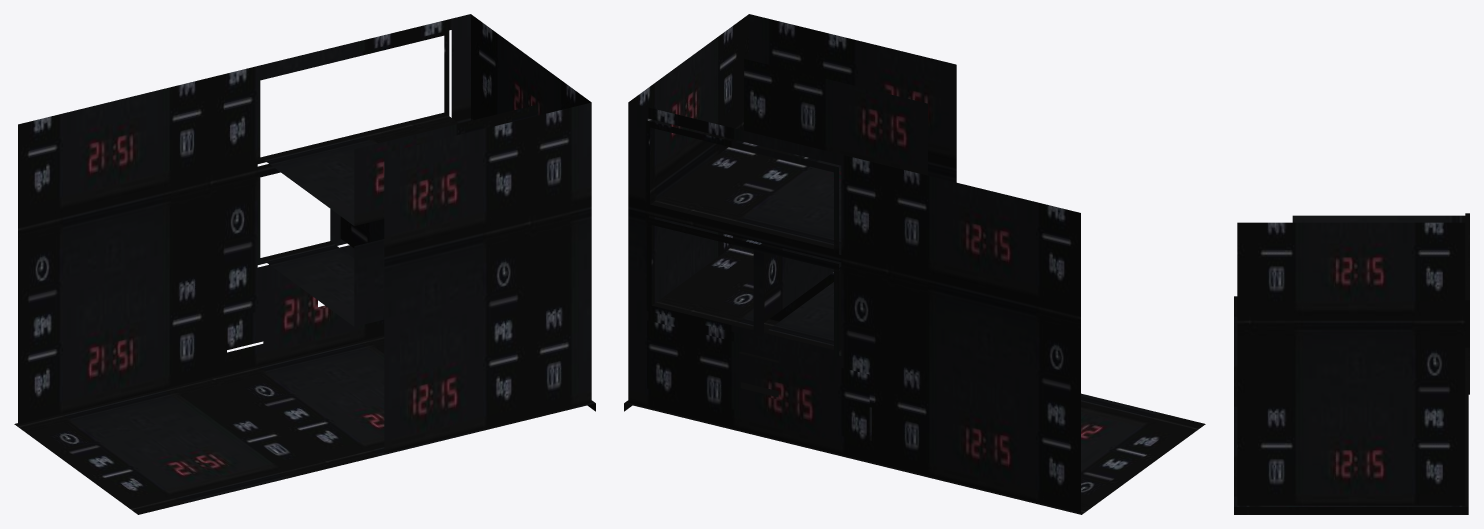
Rendered from original-147.obj.
The picture shows the model from 3 angles, left to right: view 1: azimuth 30°, elevation 25°; view 2: azimuth 150°, elevation 25°; view 3: azimuth 270°, elevation 25°; orthographic projection. The views are drawn at different scales.
Visible parts, largest first — view 1: mesh128/mesh128-geometry/material_0#mesh128-geometry; view 2: mesh128/mesh128-geometry/material_0#mesh128-geometry; view 3: mesh128/mesh128-geometry/material_0#mesh128-geometry.
Boxes of the visible parts, x1,y1,x2,y2 form: mesh128/mesh128-geometry/material_0#mesh128-geometry: [14, 14, 595, 514]; mesh128/mesh128-geometry/material_0#mesh128-geometry: [624, 14, 1205, 514]; mesh128/mesh128-geometry/material_0#mesh128-geometry: [1234, 213, 1469, 514].
Size of the model in its own units: 1.52 by 0.9788 by 0.718.
